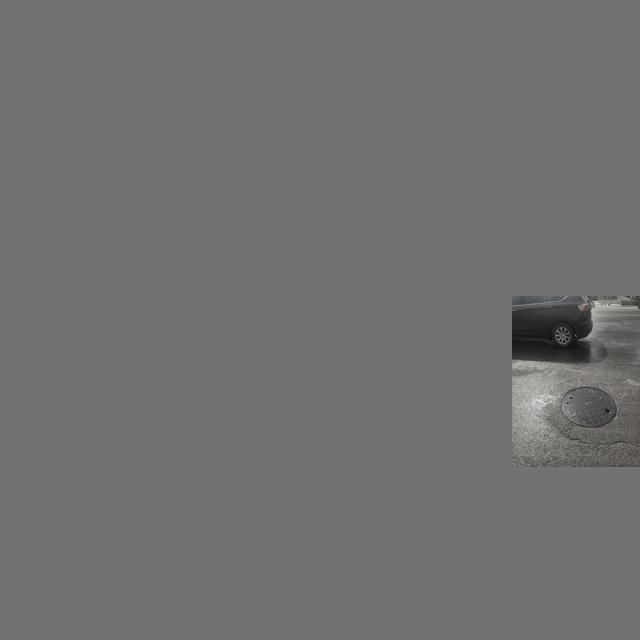good: (562, 386, 617, 426)
